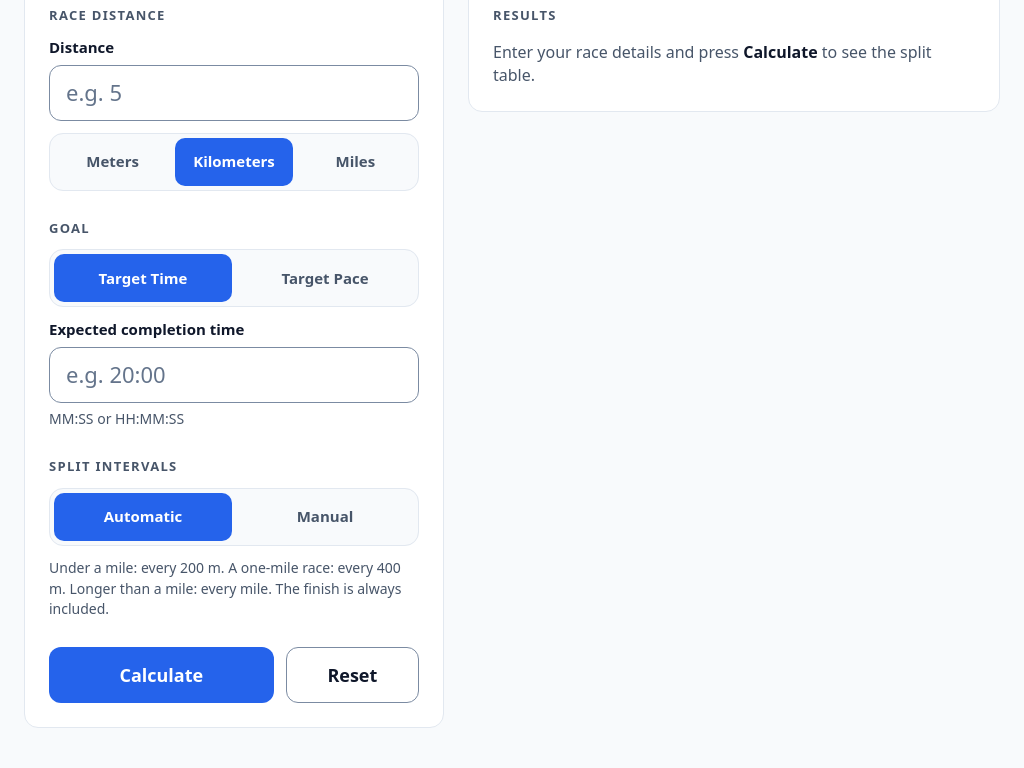
Test: before a race has been calculated › a failed calculation also leaves no active race
(page scrolled)
Click the button "Calculate": click(161, 675) [49,647,274,703]
(page scrolled)
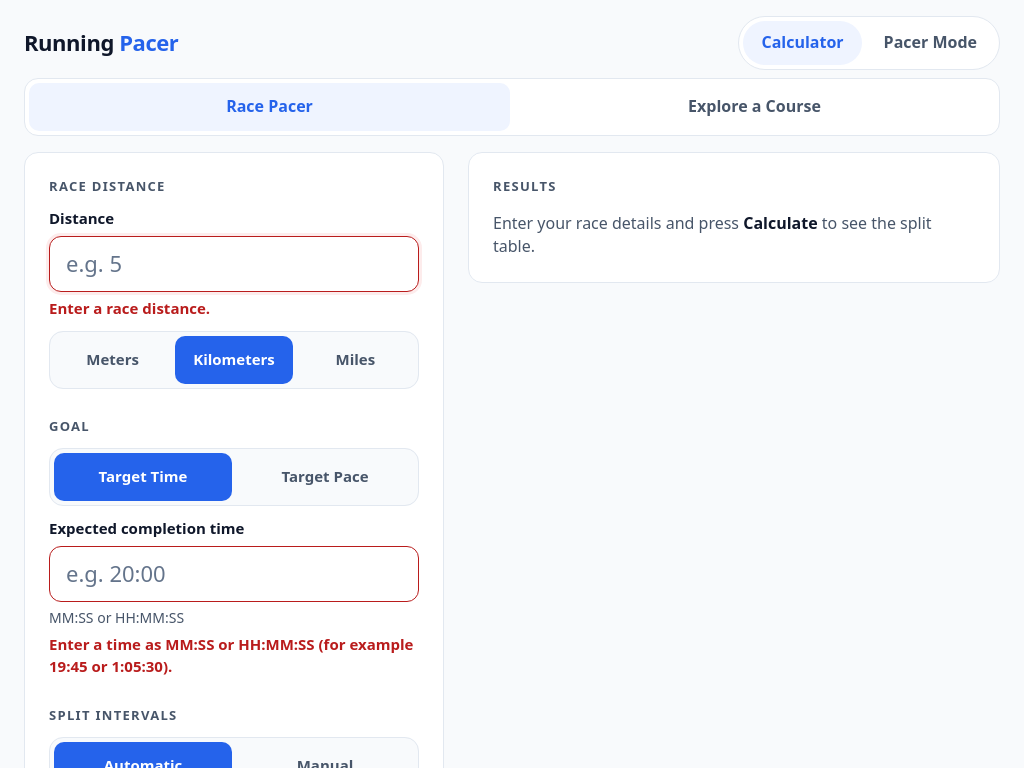
Click the button "Pacer Mode": click(930, 43) [866,21,995,65]
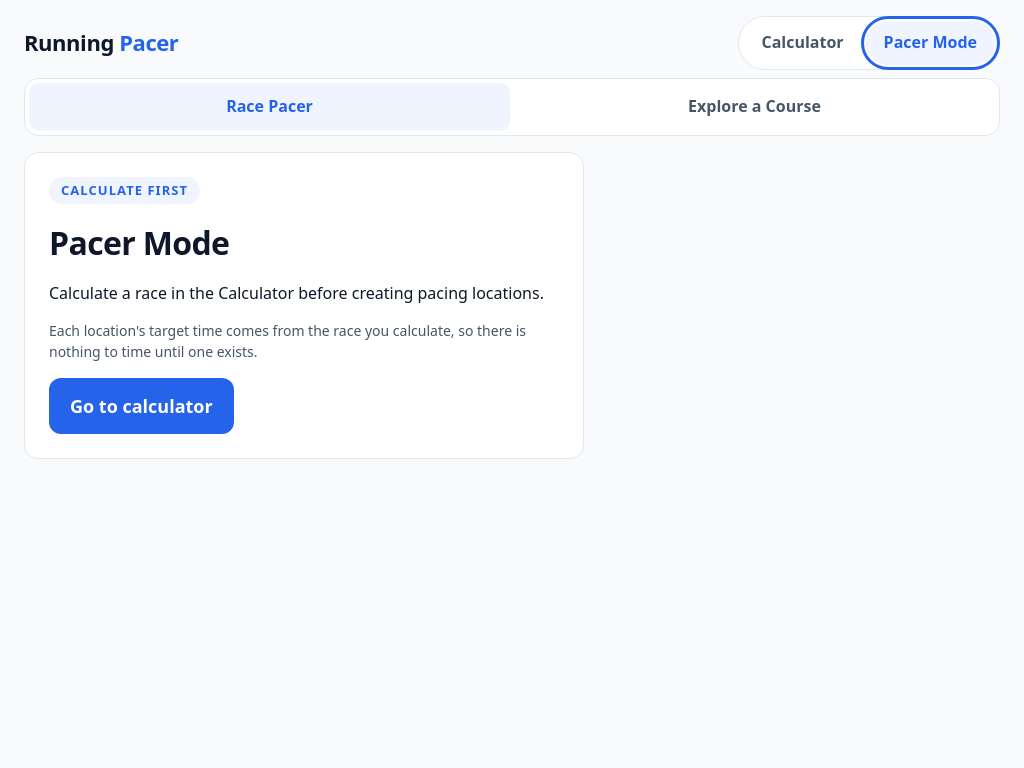
Expected: the text "Calculate a race in the Calculator" is shown, [49,282,544,304]
